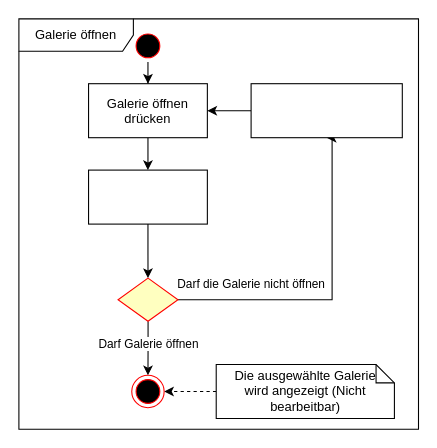
Image size: 437x448. Some labels were removed from this diagram. Each missing label, with the box of its shape:
Fehlermeldung anzeigen: (250, 83, 402, 138)
Token/Benutzer validieren: (87, 169, 207, 224)
